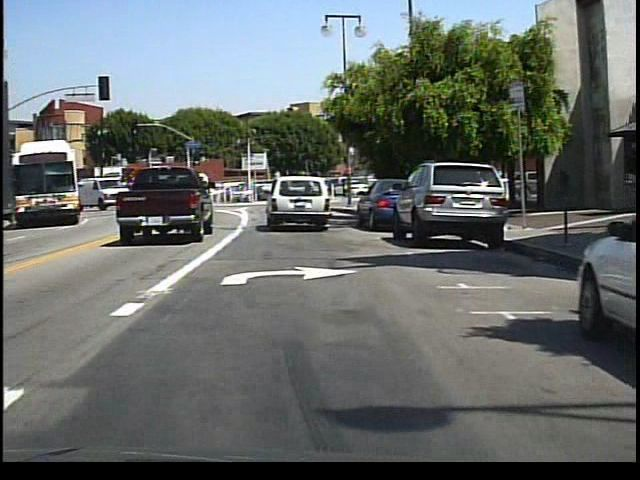person: (341, 177, 351, 204)
